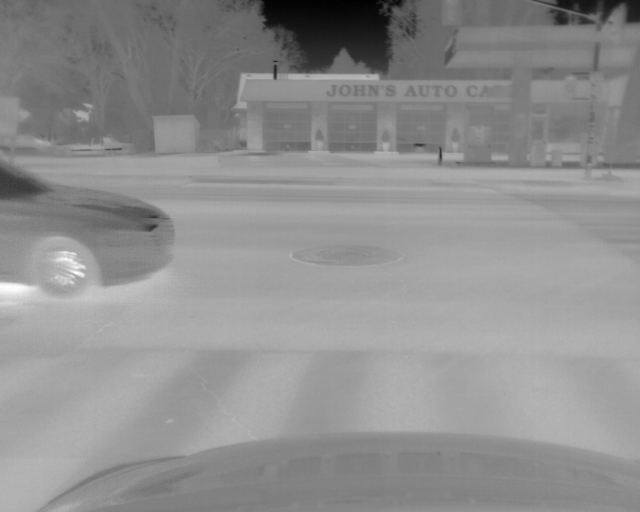car: (1, 156, 177, 298)
